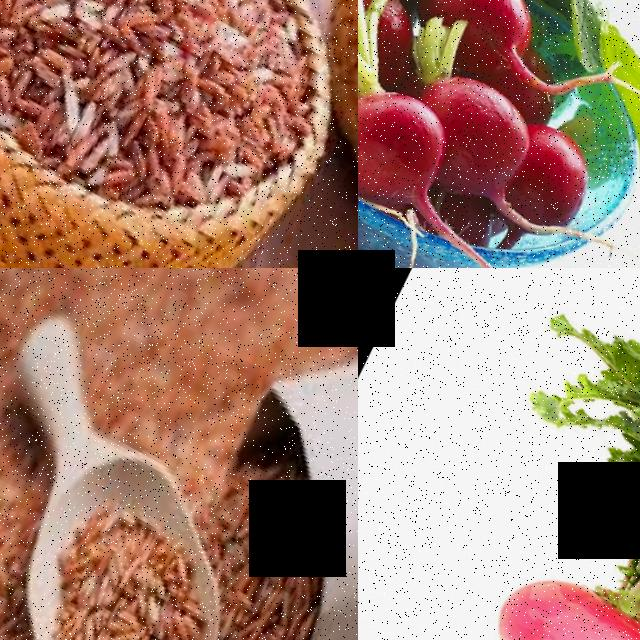radishes: (358, 0, 640, 268), (427, 410, 640, 640)
red rice: (0, 0, 342, 231), (0, 501, 239, 640)
